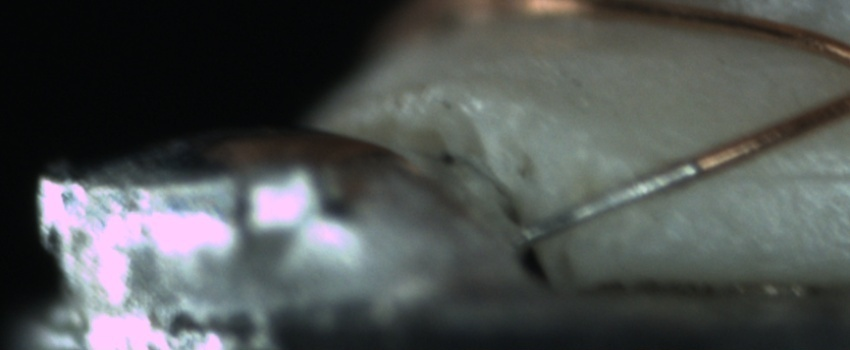DL: (716, 141, 849, 202)
TS: (521, 162, 699, 247)
